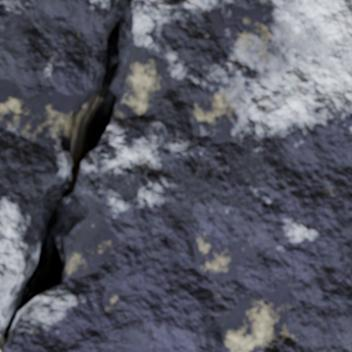broken_brick: (3, 0, 351, 351), (0, 0, 124, 296)
crack: (0, 0, 134, 350)
